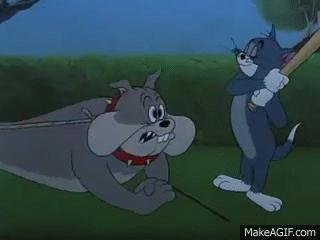tom: (211, 24, 303, 213)
